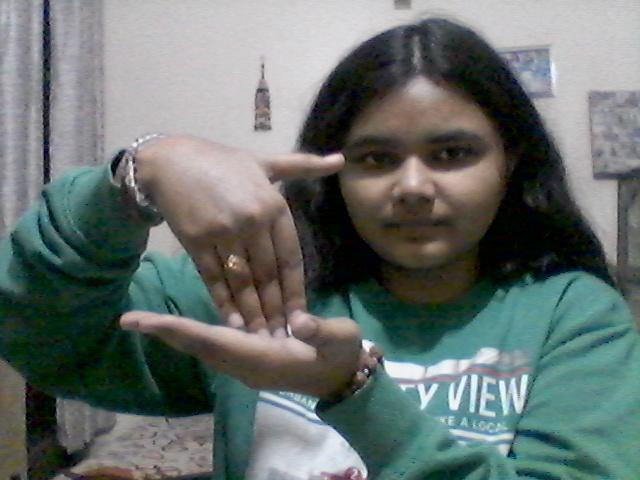repeat: (101, 115, 385, 396)
